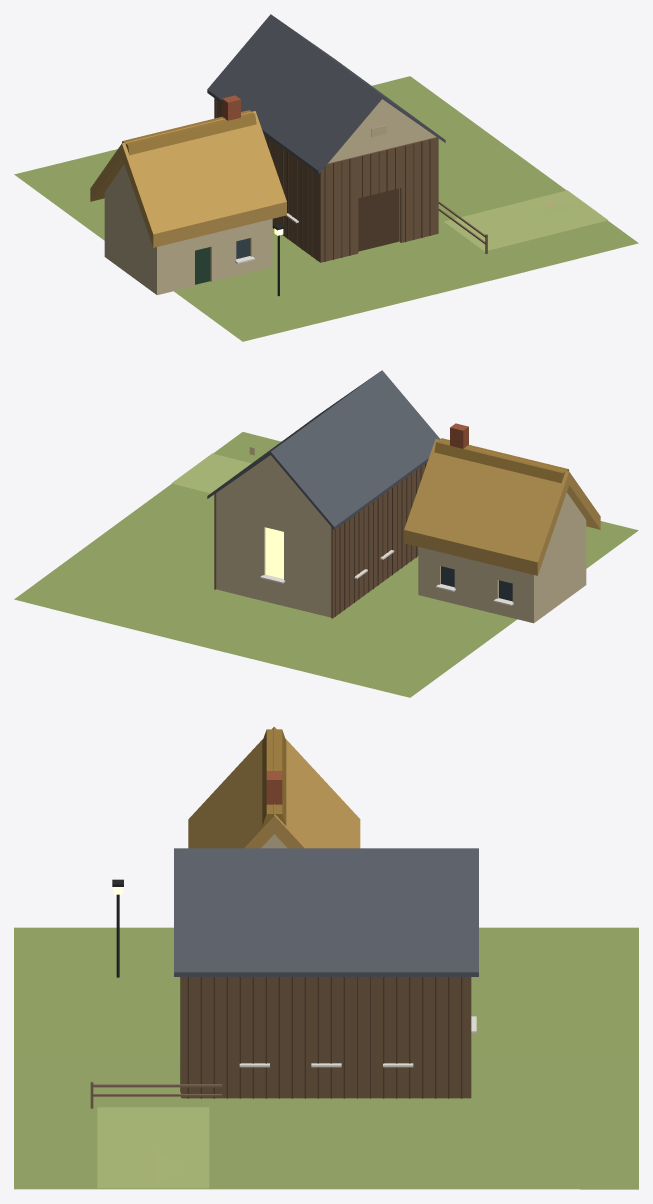
The model's file is chapel-evening.glb.
The picture shows the model from 3 angles, top to bottom: view 1: azimuth 30°, elevation 25°; view 2: azimuth 150°, elevation 25°; view 3: azimuth 270°, elevation 25°; orthographic projection. The views are drawn at different scales.
Visible parts, largest first — view 1: ground, cut_roof_street_9, chapel_walls, cut_roof_chapel, street_9_shell, ground_areas, chapel_shell, street_9_walls; view 2: ground, cut_roof_street_9, cut_roof_chapel, chapel_shell, street_9_shell, chapel_walls, ground_areas, street_9_walls; view 3: ground, cut_roof_chapel, chapel_walls, cut_roof_street_9, ground_areas, boundaries.
Part boxes in pixels (x1,y1,x2,y2): ground: (14,76,638,341); cut_roof_street_9: (90,95,286,247); chapel_walls: (214,98,438,262); cut_roof_chapel: (207,14,445,174); street_9_shell: (104,164,272,295); ground_areas: (444,190,607,251); chapel_shell: (328,99,435,241); street_9_walls: (195,238,254,284); ground: (14,432,638,697); cut_roof_street_9: (404,423,600,575); cut_roof_chapel: (207,370,439,530); chapel_shell: (216,455,331,617); street_9_shell: (418,492,586,623); chapel_walls: (214,462,427,618); ground_areas: (171,453,251,493); street_9_walls: (436,566,513,605); ground: (14,927,638,1189); cut_roof_chapel: (174,848,478,976); chapel_walls: (180,977,476,1098); cut_roof_street_9: (188,726,360,848); ground_areas: (97,1107,209,1188); boundaries: (90,1081,222,1108).
Bounding box in the file's own units: 25.55 × 9.32 × 24.
